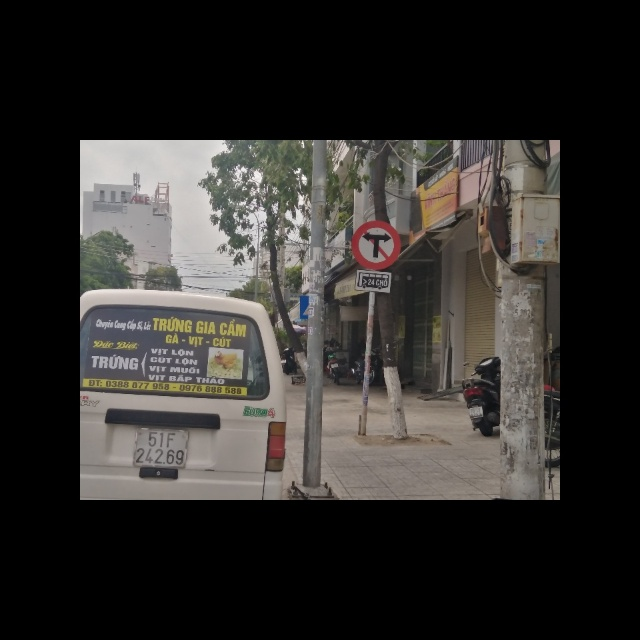Cấm rẽ trái và rẽ phải: (350, 220, 400, 270)
